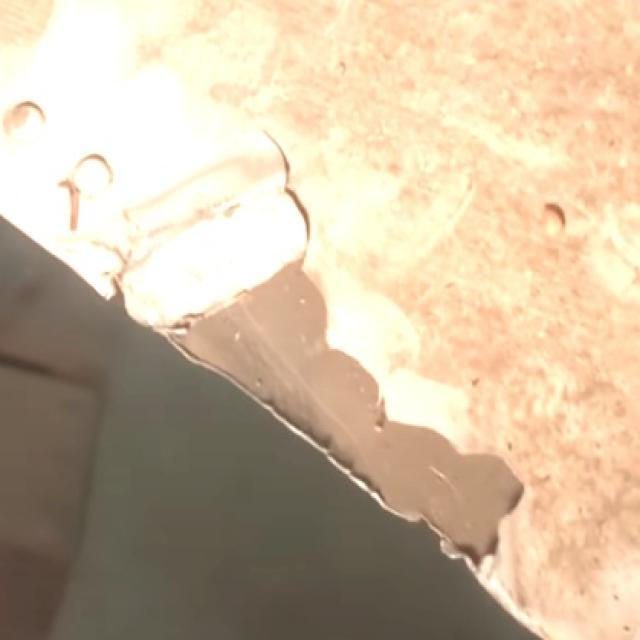crack: (259, 139, 299, 227)
